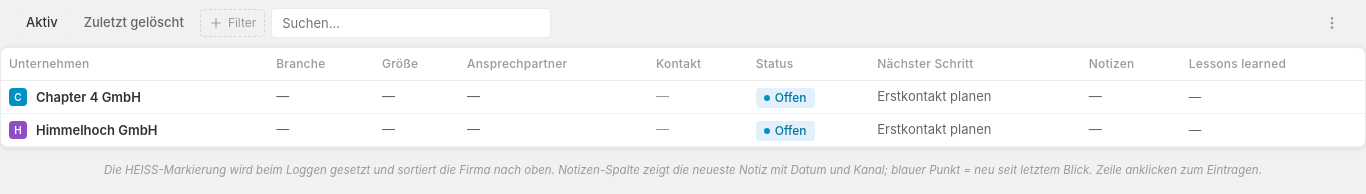
Test case: CompanyTable › live search (DB-08, D-10/11) › clearing the search box restores the full set
Step 1. Type "himmel" into the field with placeholder "Suchen…" → (411,23), box [271, 8, 551, 38]
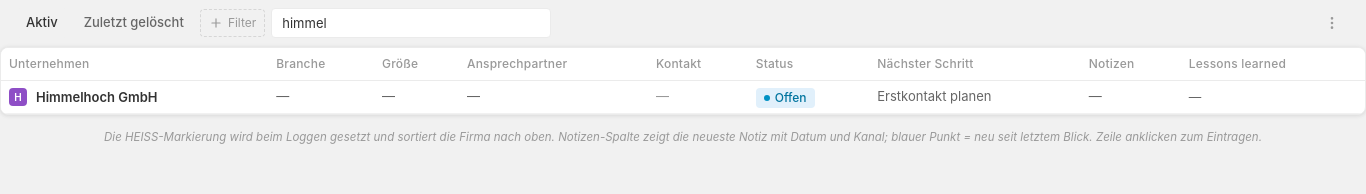
Result: the text "Chapter 4 GmbH" is gone
Step 2. Clear the field with placeholder "Suchen…" → (411,23), box [271, 8, 551, 38]
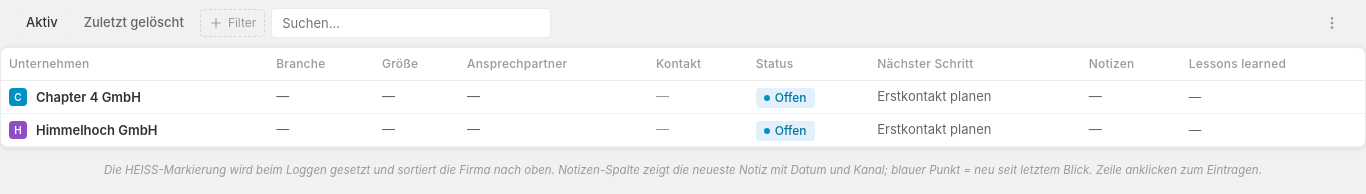
Result: the text "Chapter 4 GmbH" is shown at [36, 89, 141, 105]
